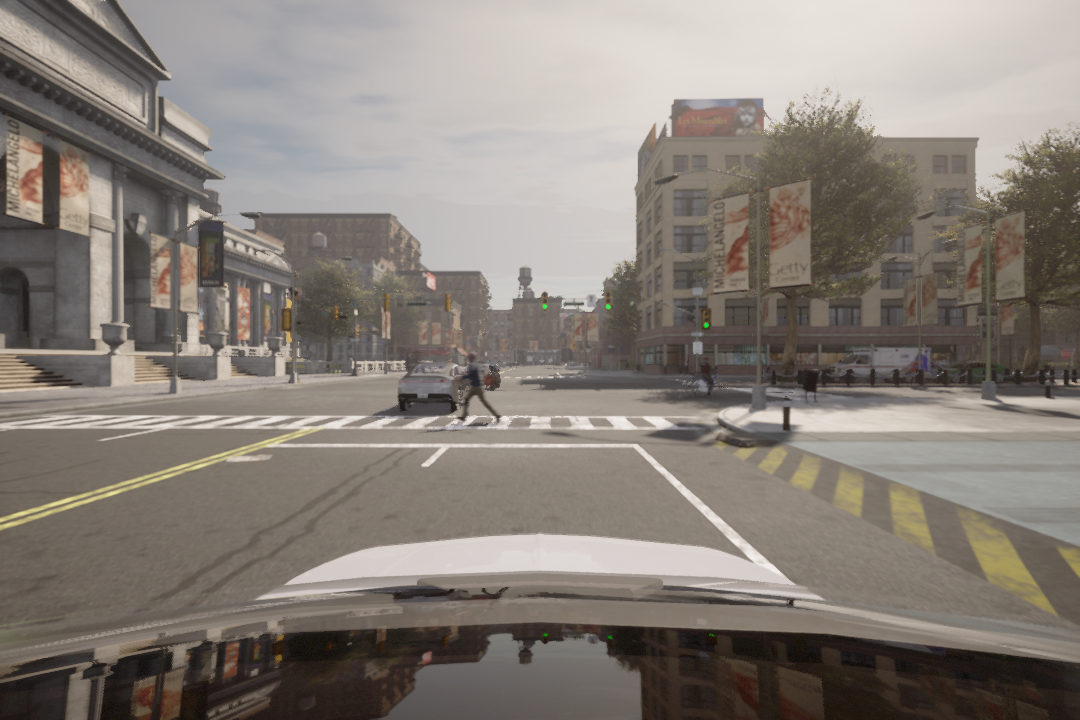TrafficLight: (699, 307, 712, 332), (541, 290, 550, 311), (603, 292, 611, 311)
walkside: (1, 407, 723, 438)
